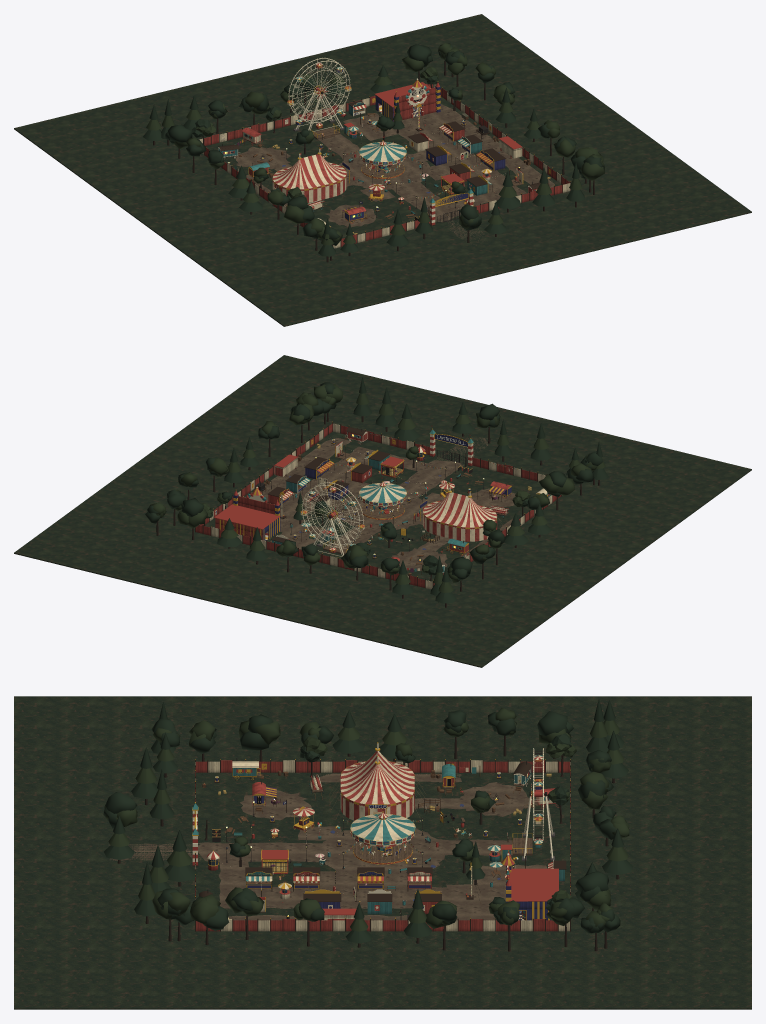
File: carnival.glb
3 views of the same model, one above another, from view 1: azimuth 30°, elevation 25°; view 2: azimuth 150°, elevation 25°; view 3: azimuth 270°, elevation 25° (orthographic). The views are drawn at different scales.
Visible parts, largest first — view 1: S_0_0, S_m2_m1, S_m1_2.001, S_1_m1, S_0_m1, S_1_2.001, S_1_1, S_2_m1, S_m3_m3.001, S_m2_2.001, S_0_m2, S_2_m3.001 (+15 smaller); view 2: S_0_0, S_m2_m1, S_m1_2.001, S_1_m1, S_1_2.001, S_0_m1, S_2_m1, S_0_m2, S_m3_m3.001, S_2_m3.001, S_1_2, S_m2_2.001 (+16 smaller); view 3: S_0_0, S_m2_m1, S_0_m1, S_1_m1, S_2_m3.001, S_m3_m3.001, S_1_2.001, S_0_m2, S_1_1, S_m2_2.001, S_m2_m2, S_m3_m2.001 (+48 smaller).
Part boxes in pixels (<box>): S_0_0: <box>14,14,751,326</box>; S_m2_m1: <box>272,148,346,209</box>; S_m1_2.001: <box>266,58,354,139</box>; S_1_m1: <box>426,131,526,199</box>; S_0_m1: <box>338,153,449,189</box>; S_1_2.001: <box>361,65,440,120</box>; S_1_1: <box>382,100,469,140</box>; S_2_m1: <box>440,104,554,187</box>; S_m3_m3.001: <box>302,218,358,262</box>; S_m2_2.001: <box>208,91,269,148</box>; S_0_m2: <box>392,182,460,221</box>; S_2_m3.001: <box>554,147,604,195</box>; S_0_0: <box>14,355,751,667</box>; S_m2_m1: <box>423,486,508,541</box>; S_m1_2.001: <box>302,482,363,572</box>; S_1_m1: <box>280,446,375,514</box>; S_1_2.001: <box>214,486,280,549</box>; S_0_m1: <box>336,479,426,529</box>; S_2_m1: <box>261,437,350,501</box>; S_0_m2: <box>394,457,463,497</box>; S_m3_m3.001: <box>561,442,608,496</box>; S_2_m3.001: <box>296,382,357,444</box>; S_1_2: <box>215,488,274,548</box>; S_m2_2.001: <box>341,544,409,590</box>; S_0_0: <box>14,696,751,1009</box>; S_m2_m1: <box>310,751,414,820</box>; S_0_m1: <box>317,828,445,890</box>; S_1_m1: <box>219,872,447,914</box>; S_2_m3.001: <box>152,888,229,944</box>; S_m3_m3.001: <box>151,702,220,782</box>; S_1_2.001: <box>505,850,596,920</box>; S_0_m2: <box>198,842,322,866</box>; S_1_1: <box>446,866,509,920</box>; S_m2_2.001: <box>524,750,613,817</box>; S_m2_m2: <box>240,782,311,820</box>; S_m3_m2.001: <box>232,714,295,780</box>.
Size of the model in its own units: 140 by 20.32 by 140.
Materials: 81 (22 with a texture image).
